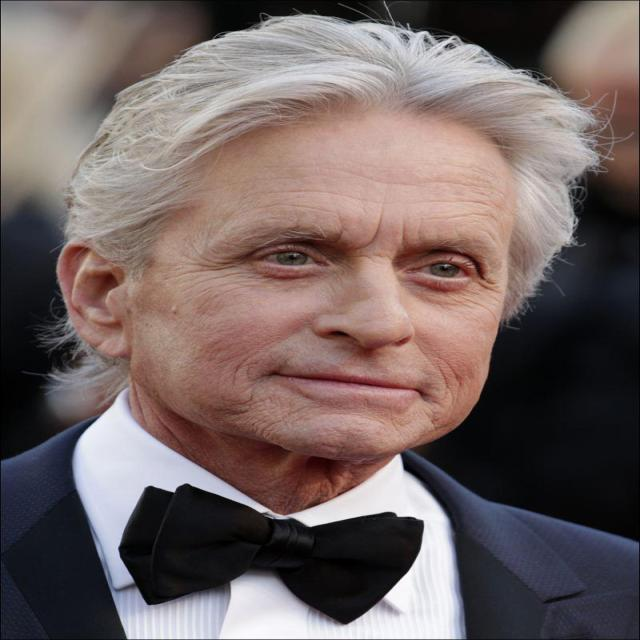no-earmuff: (38, 224, 174, 379)
